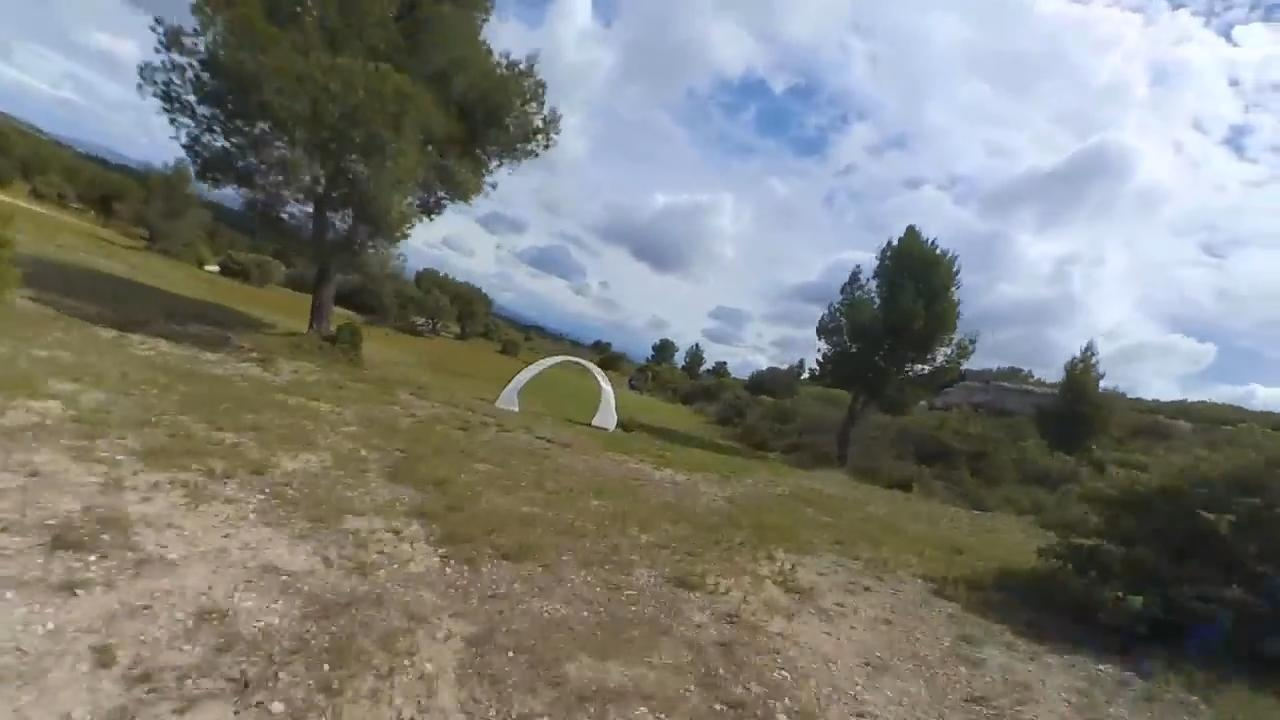gate: (495, 354, 622, 435)
